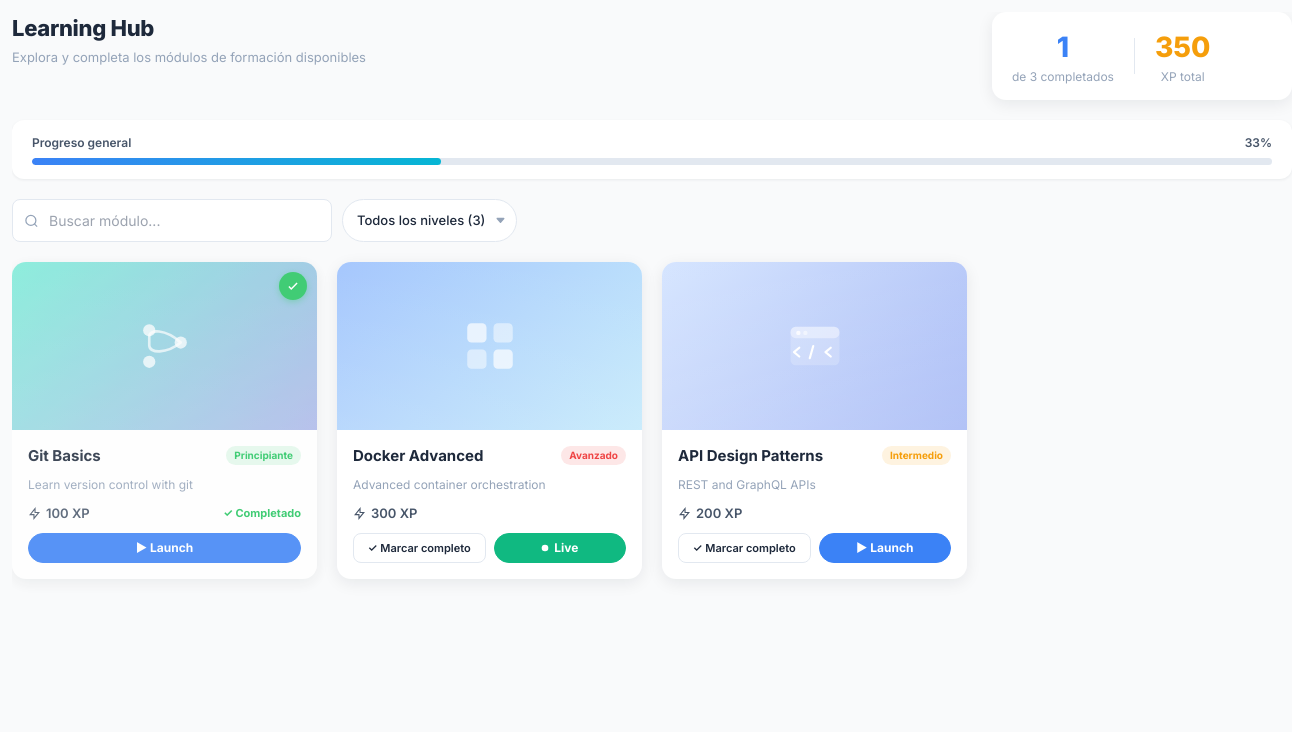
LearningHub › filtra boxes por dificultad
Expected: the heading "Git Basics" is shown, [28,446,101,466]
Select "Principiante" in the dropdown at (430, 220), box [342,199,517,242]
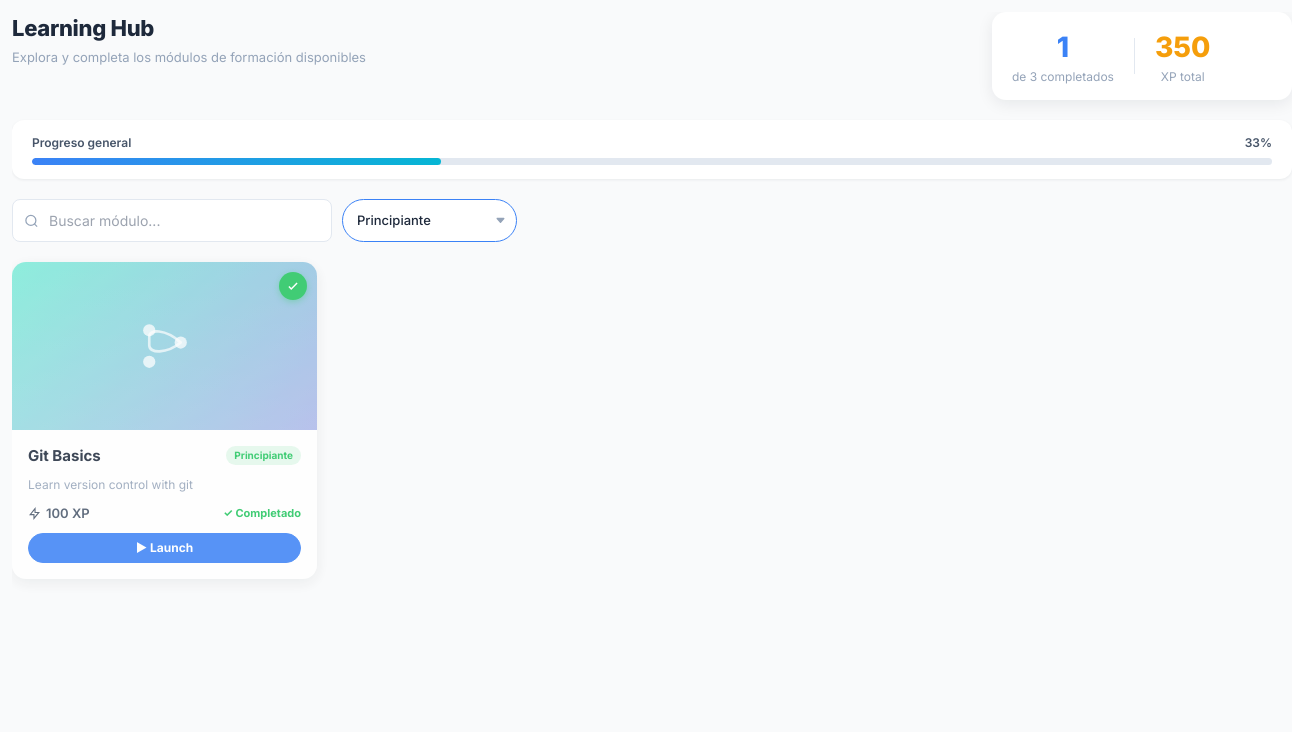
Expected: the heading "Git Basics" is shown, [28,446,101,466]
Now the heading "Docker Advanced" is gone
Now the heading "API Design Patterns" is gone
